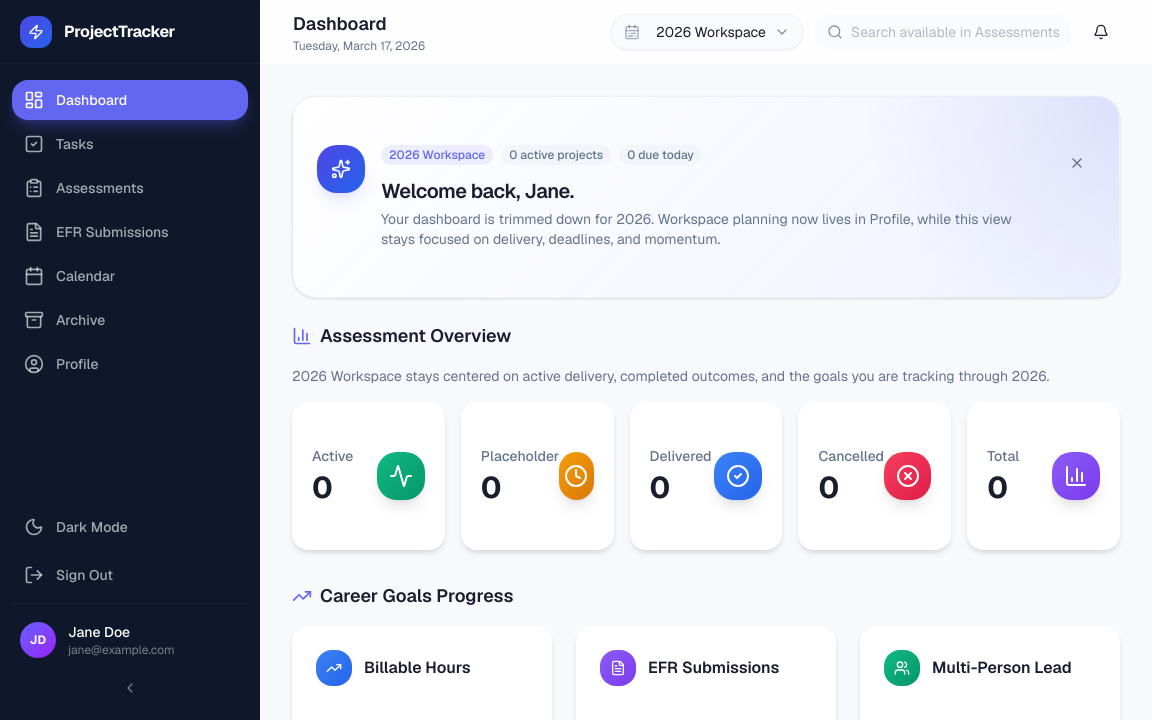
Test case: DashboardClient › lets the user dismiss the welcome banner
The image size is (1152, 720).
Expected: the heading "Welcome back, Jane." is shown, [381,178,574,204]
Click the button named "Dismiss welcome banner" at (1077, 163), box [1059,145,1095,181]
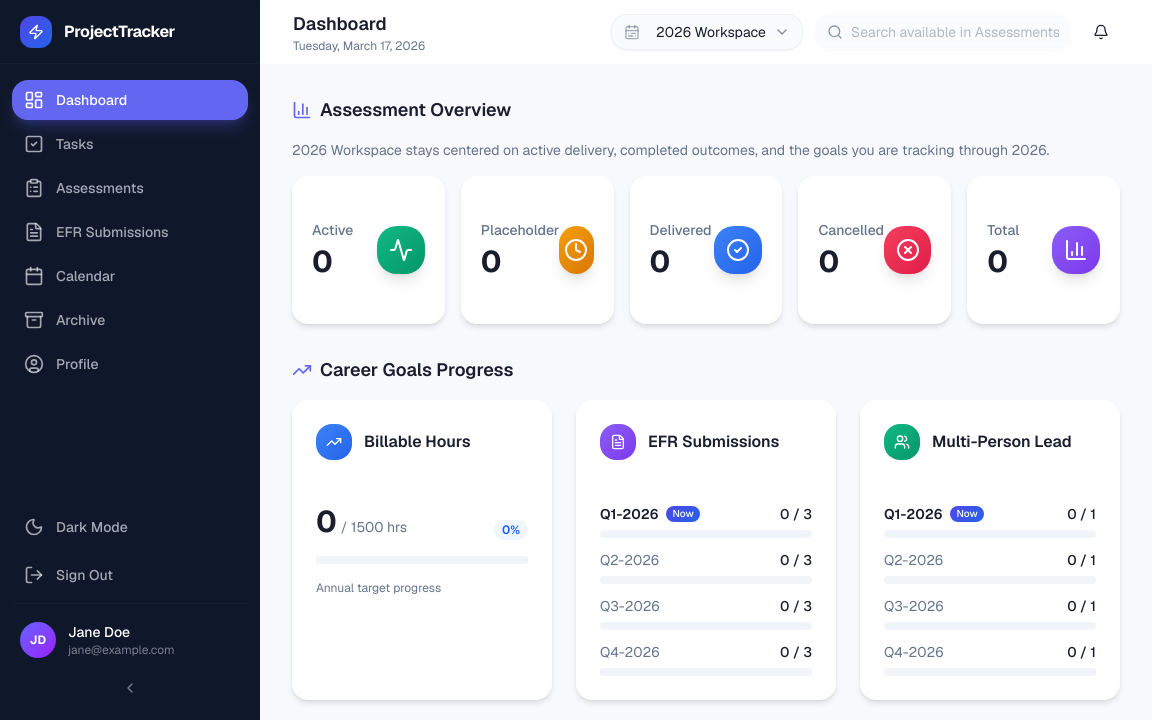
Now the heading "Welcome back, Jane." is gone
